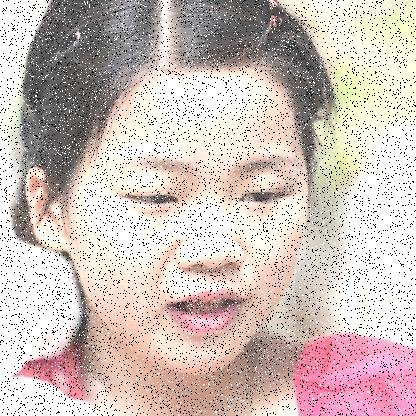eyeee: (113, 183, 183, 207), (235, 179, 294, 207)
nosebb: (174, 204, 247, 271), (163, 286, 251, 336)
